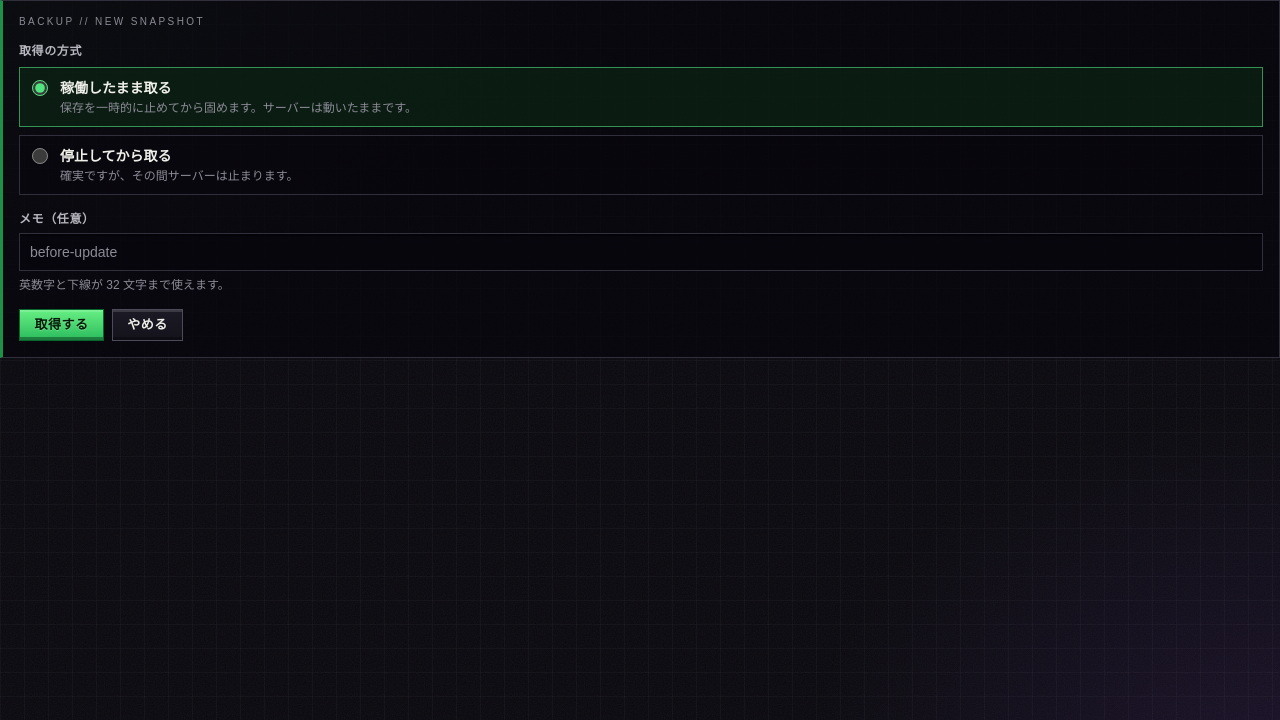
Test: CreateBackupDialog › 日本語のメモが残らないことを伝える
This screenshot has width=1280, height=720.
Type "アップデート前" into the field labelled "メモ（任意）" at (641, 252), box 19,233 -> 1263,271
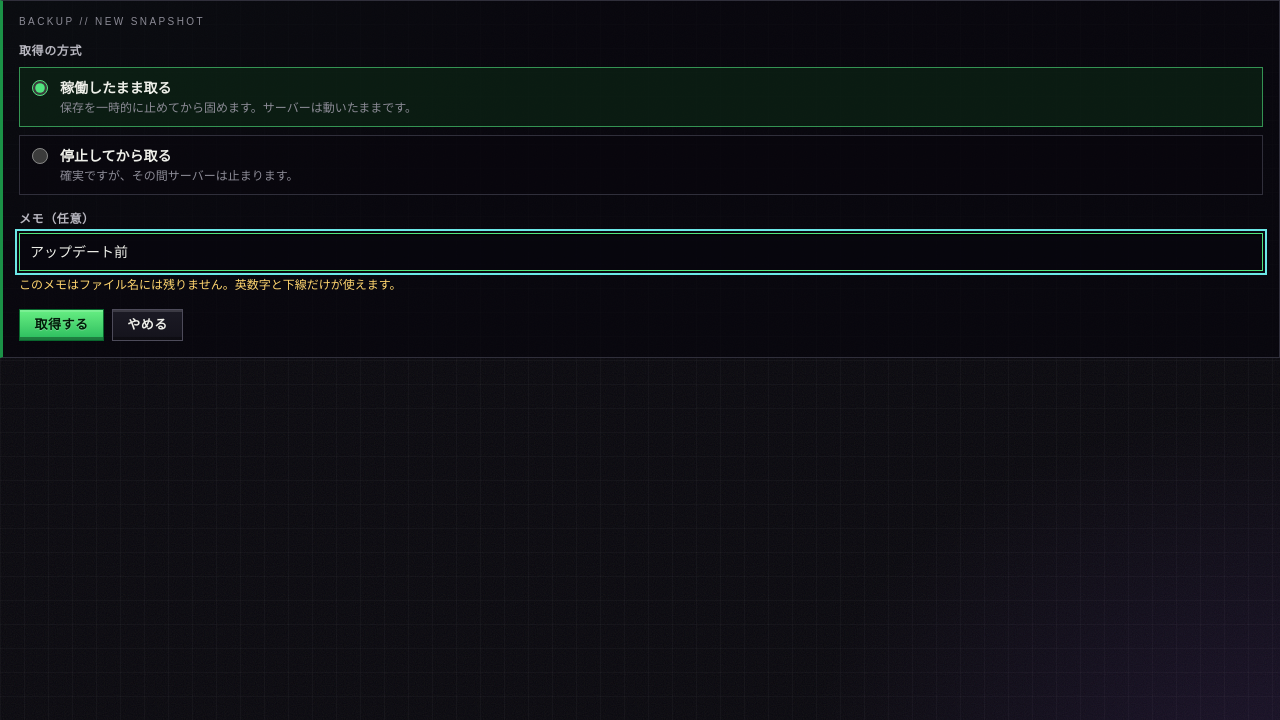
Check: the text "このメモはファイル名には残りません。英数字と下線だけが使えます。" is shown, box 19,278 -> 402,292
